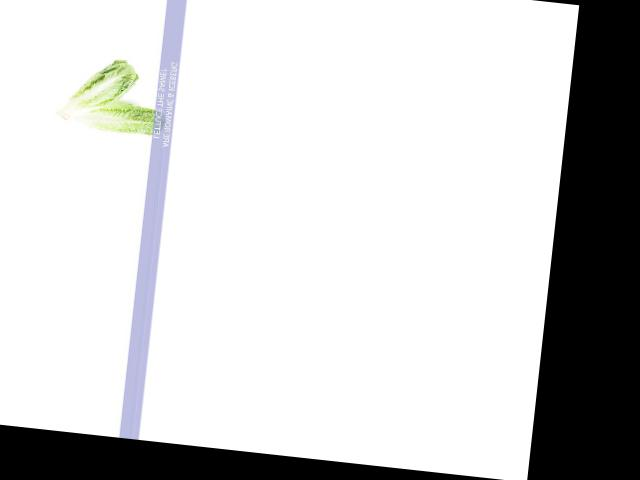lettuce: (45, 55, 144, 127)
